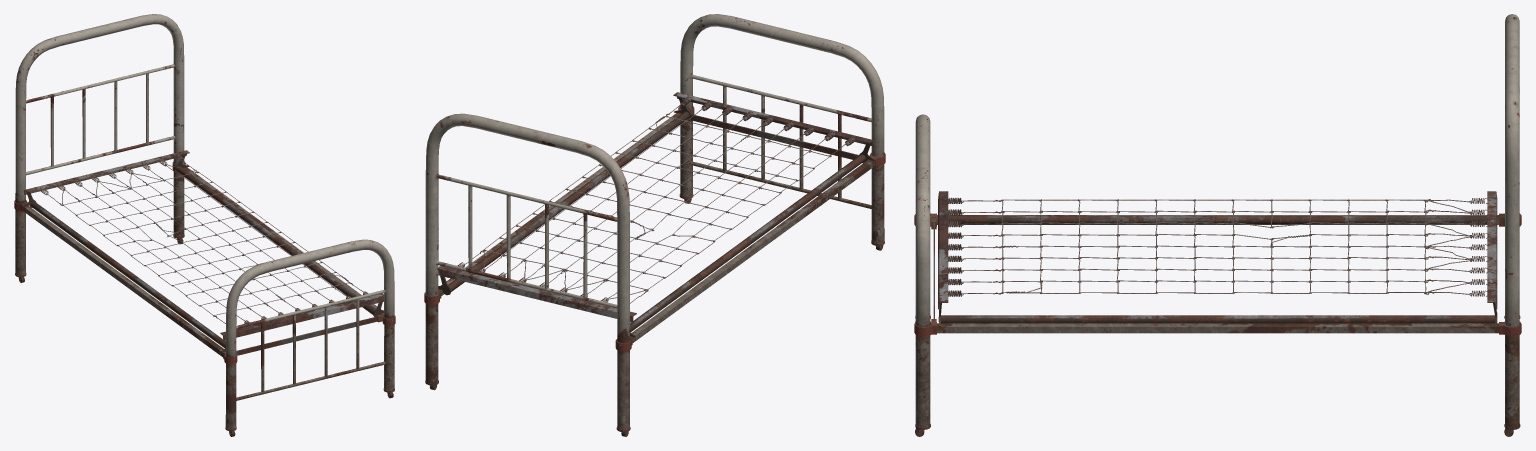
File: old_bed_frame.glb
The picture shows the model from 3 angles, left to right: view 1: azimuth 30°, elevation 25°; view 2: azimuth 150°, elevation 25°; view 3: azimuth 270°, elevation 25°; orthographic projection. The views are drawn at different scales.
Parts seen in each view (by area): view 1: Object_2; view 2: Object_2; view 3: Object_2.
Boxes of the visible parts, <box> form: Object_2: <box>14,14,395,436</box>; Object_2: <box>424,14,885,436</box>; Object_2: <box>914,14,1521,436</box>.
Bounding box in the file's own units: 0.9047 × 1.2 × 2.
1 material, 1 textured.
